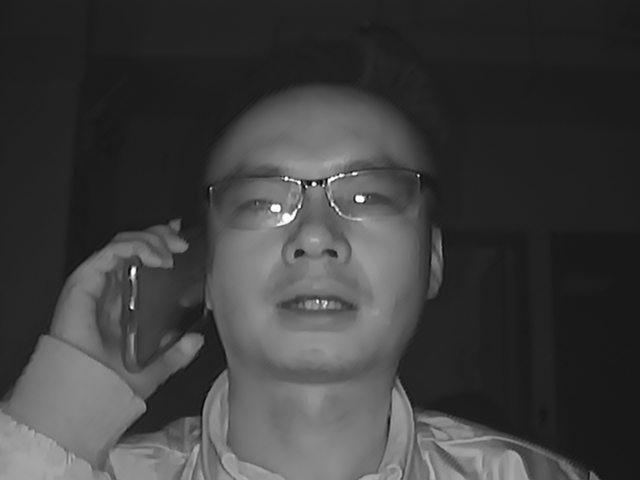hand: (64, 218, 188, 391)
